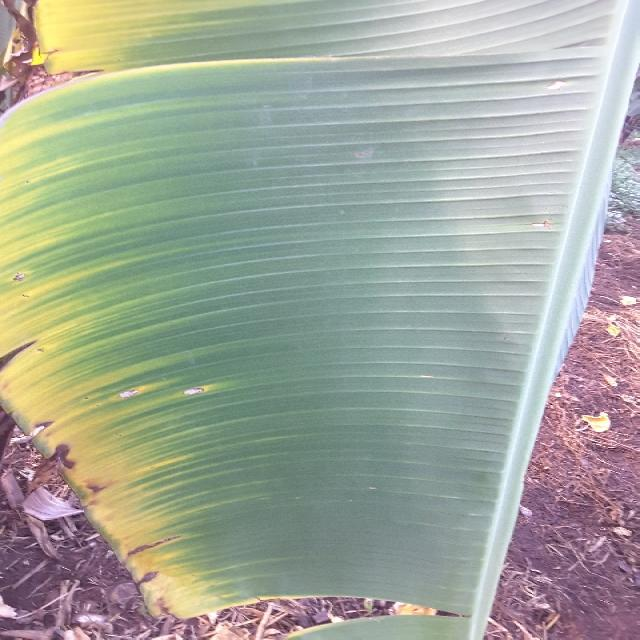Cordana: (0, 104, 344, 632), (0, 0, 366, 106)
